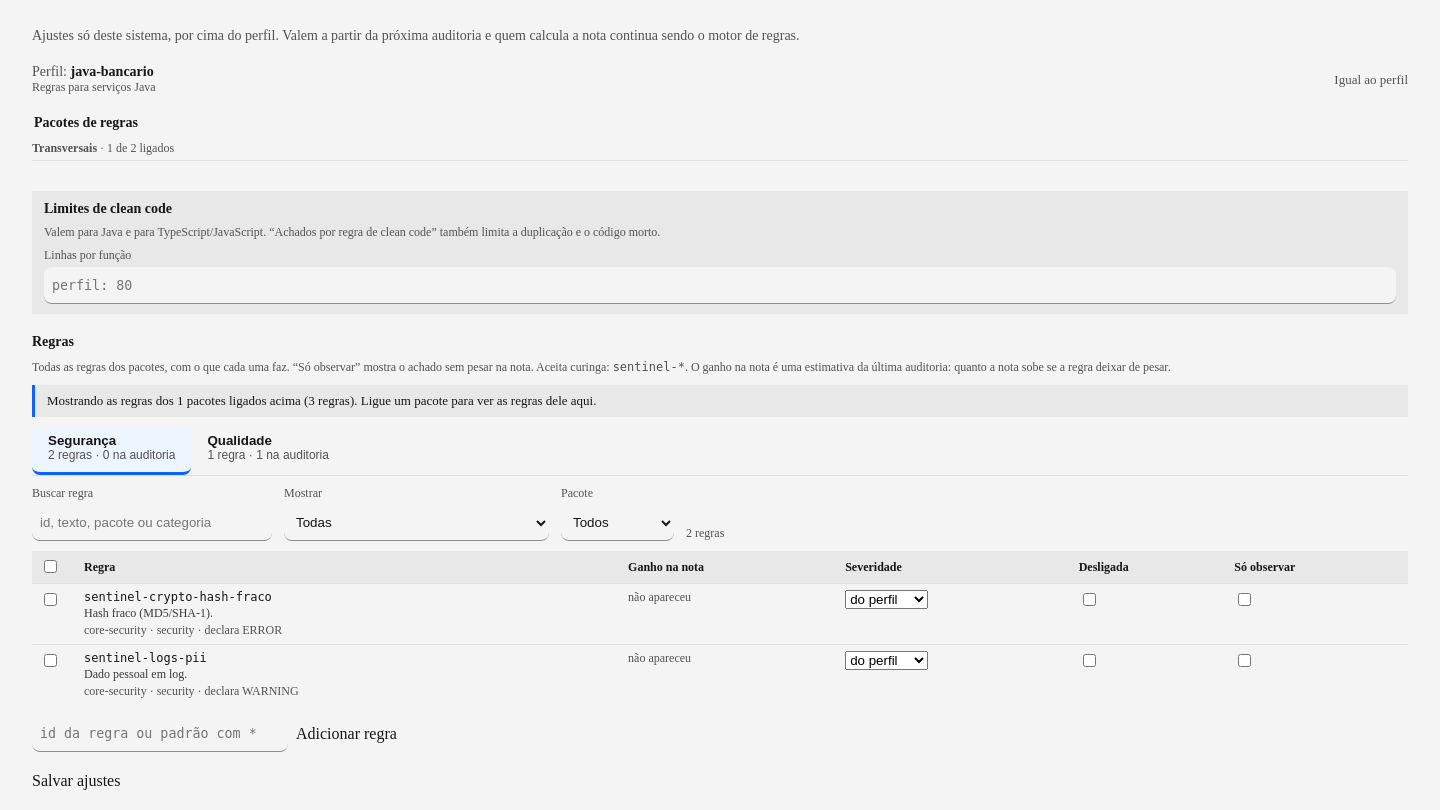
Test: EnginePanel › mostra o ganho estimado na nota vindo do plano da última auditoria
The image size is (1440, 810).
Step 1. Click the tab "Qualidade 1 regra · 1 na auditoria" → {"x": 268, "y": 451}, box [192,427,345,475]
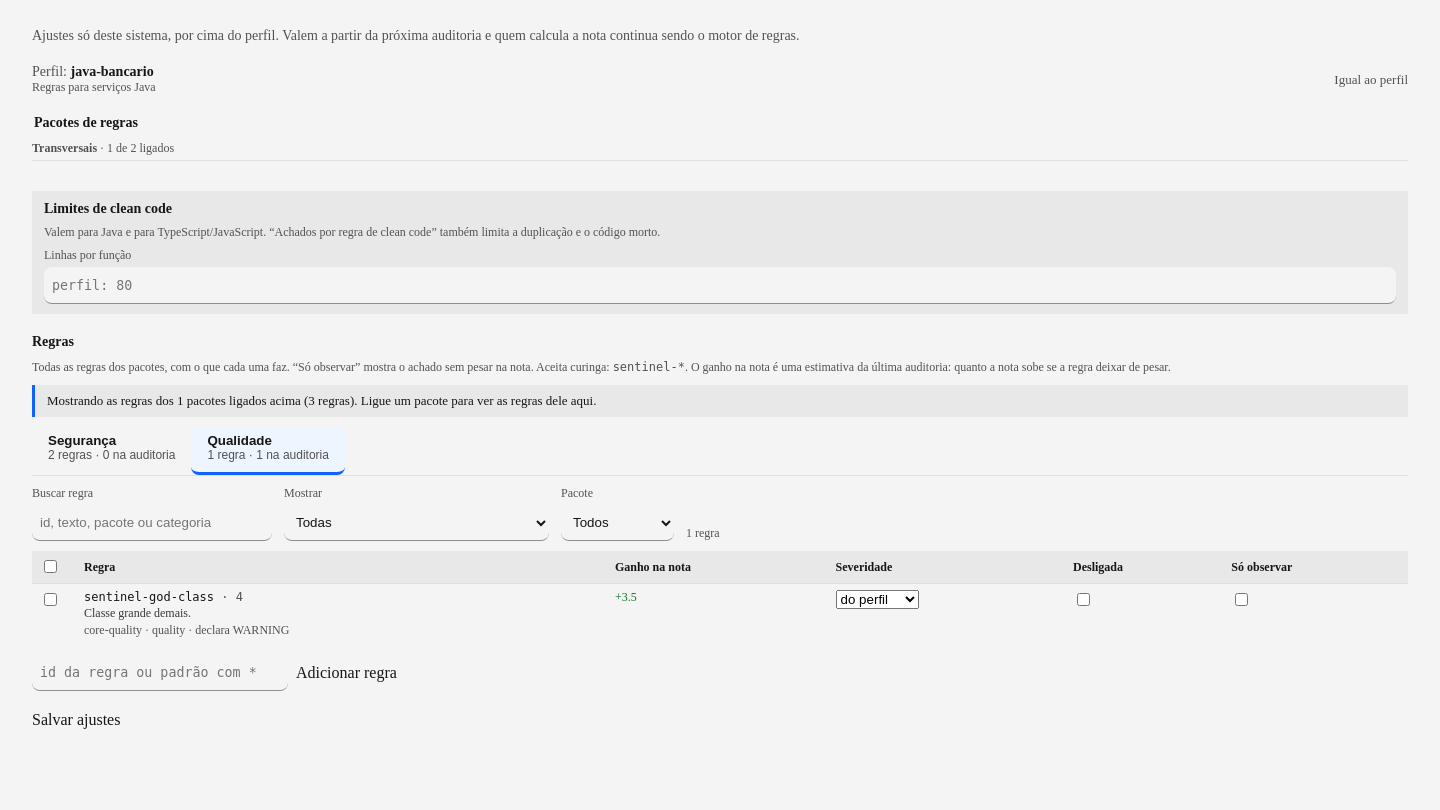
Result: the text "+3.5" is shown at [607,584,828,644]
